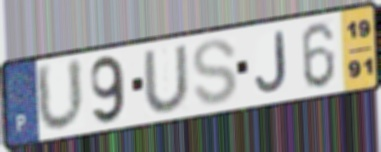6: (299, 19, 337, 93)
9: (88, 53, 128, 126)
J: (253, 29, 290, 94)
S: (190, 37, 239, 108)
U: (33, 56, 87, 135), (140, 41, 192, 115)
